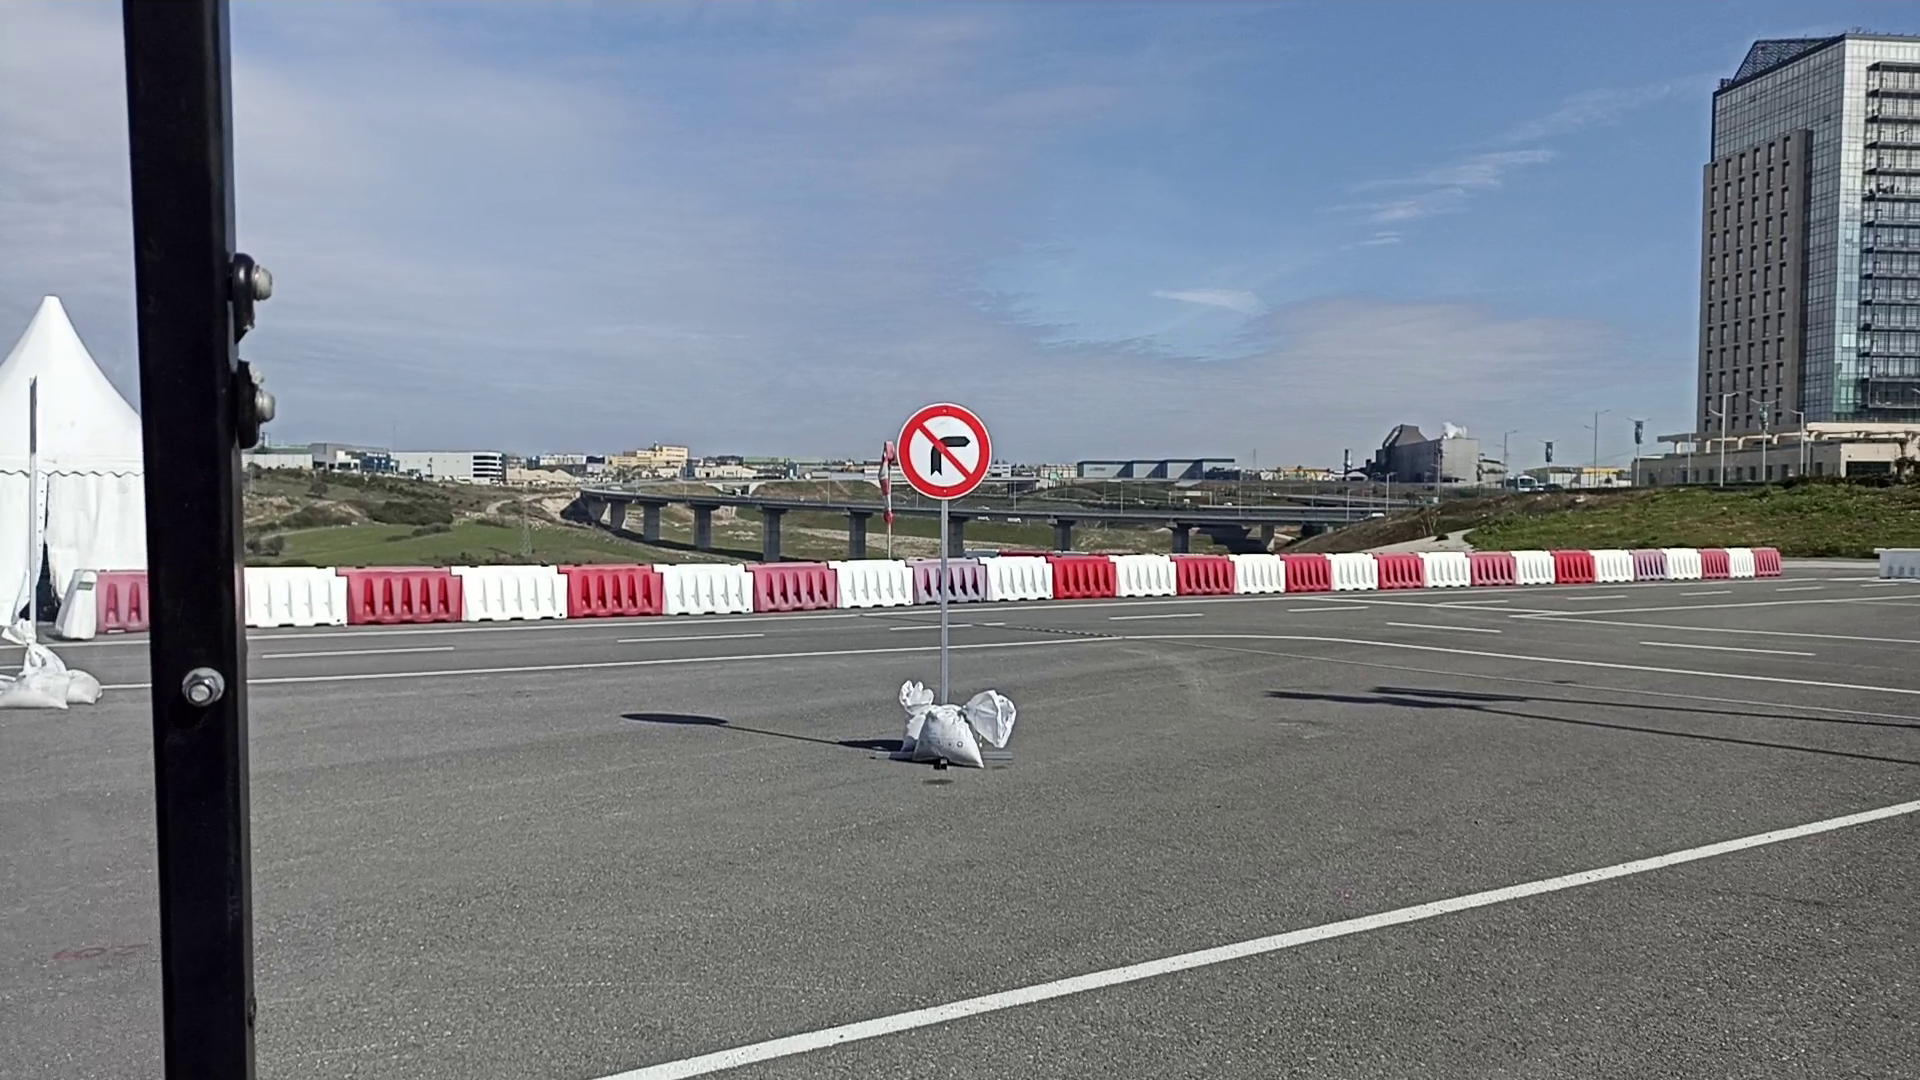noleftturn: (894, 402, 994, 502)
